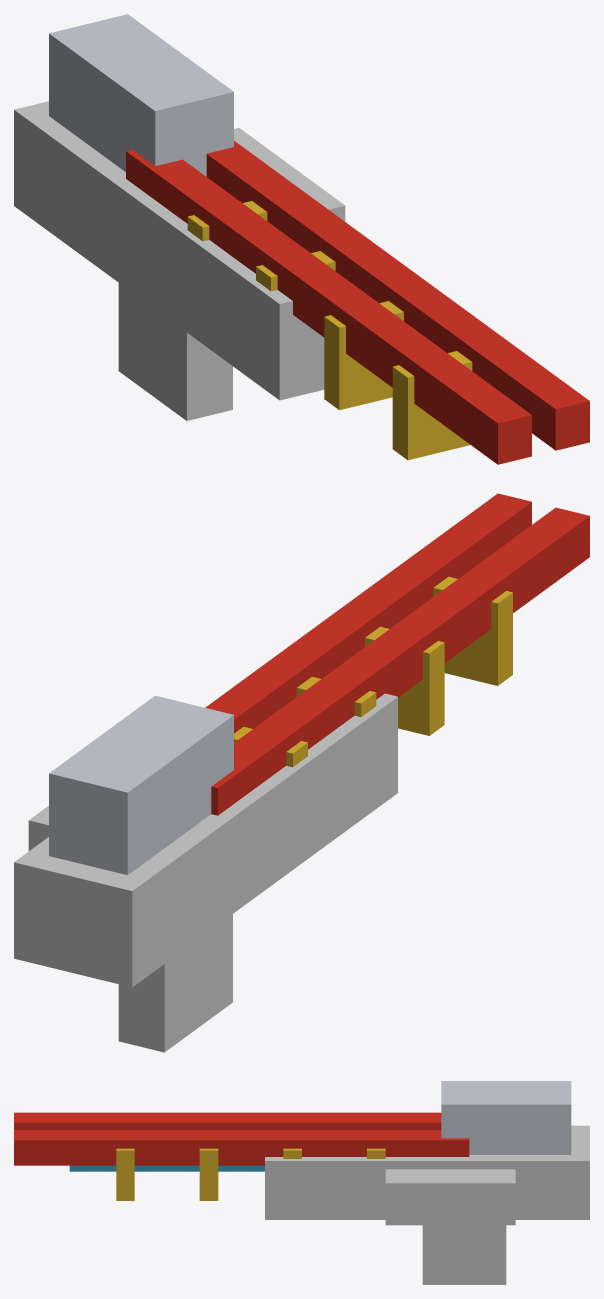
The model's file is railgun.obj.
3 renders of one model, top to bottom at view 1: azimuth 30°, elevation 25°; view 2: azimuth 150°, elevation 25°; view 3: azimuth 270°, elevation 25°, orthographic. The views are drawn at different scales.
Visible parts, largest first — view 1: railgun; view 2: railgun; view 3: railgun.
Boxes of the visible parts, bbox=[...] form: railgun: bbox=[14, 14, 589, 464]; railgun: bbox=[14, 493, 589, 1052]; railgun: bbox=[14, 1081, 589, 1284].
Size of the model in its own units: 0.25 by 0.44 by 1.24.
